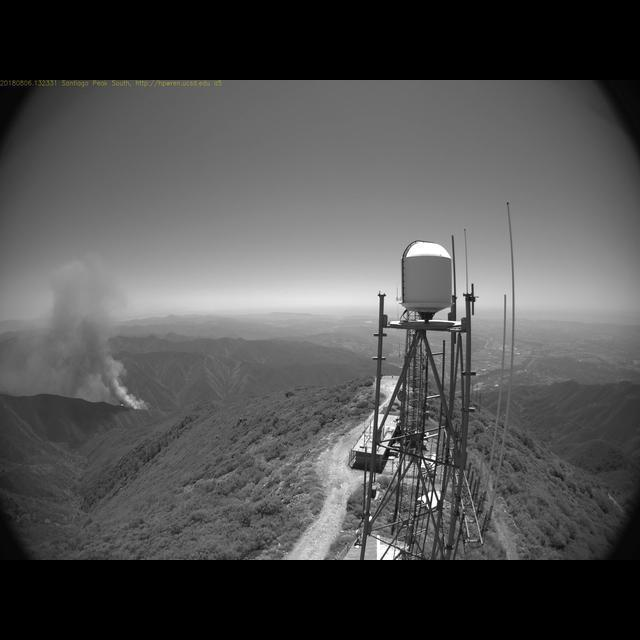Smoke: (2, 255, 144, 416)
